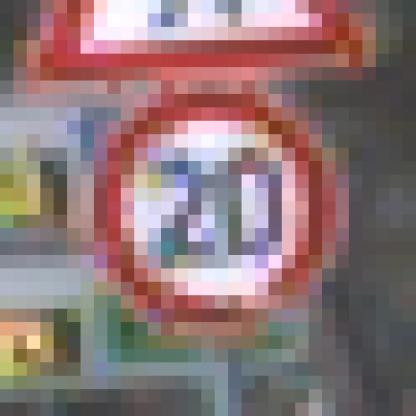Speed Limit 20: (101, 95, 338, 326)
